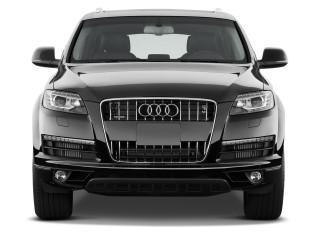Audi: (134, 100, 187, 121)
